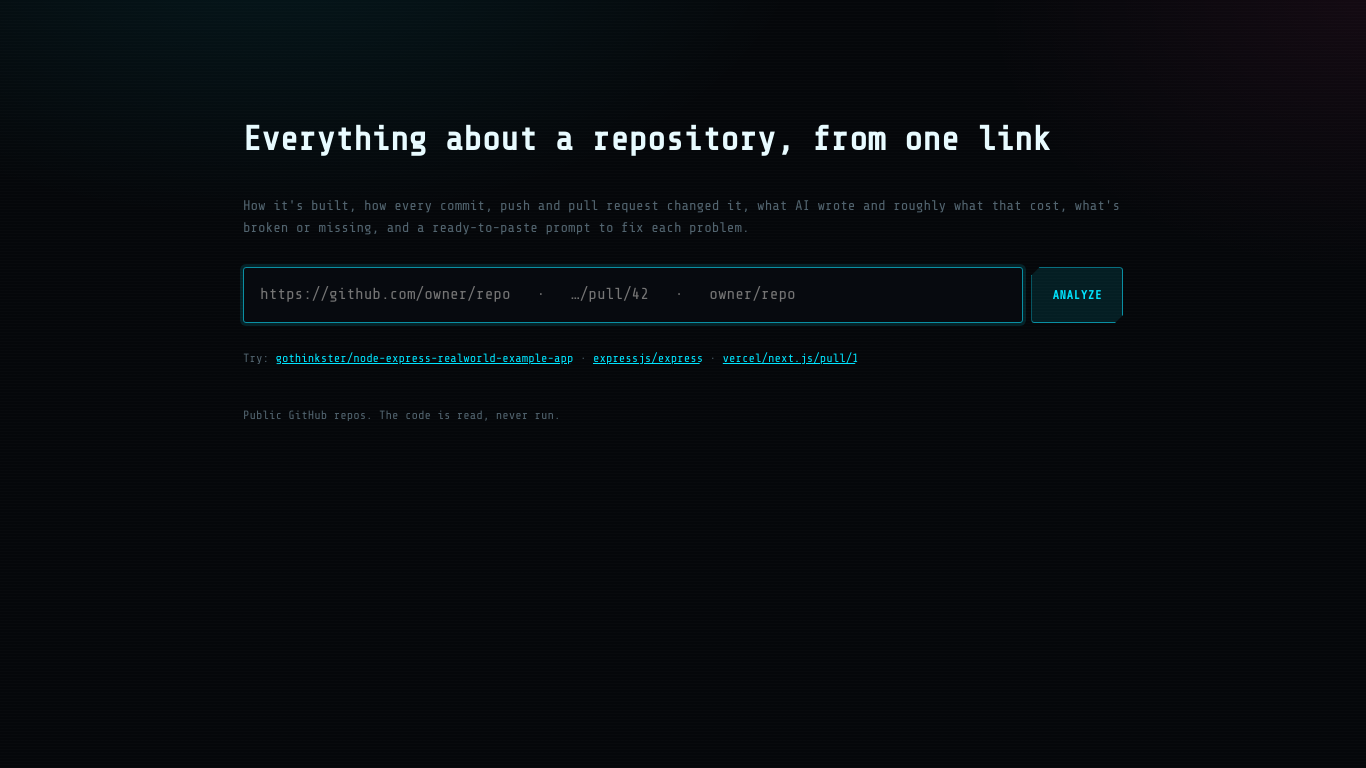
Test: Report page › goes from one pasted link to the report
The image size is (1366, 768).
Step 1. Type "https://github.com/acme/api/pull/7" into the field named "GitHub link" → (633, 295), box [243,267,1023,323]
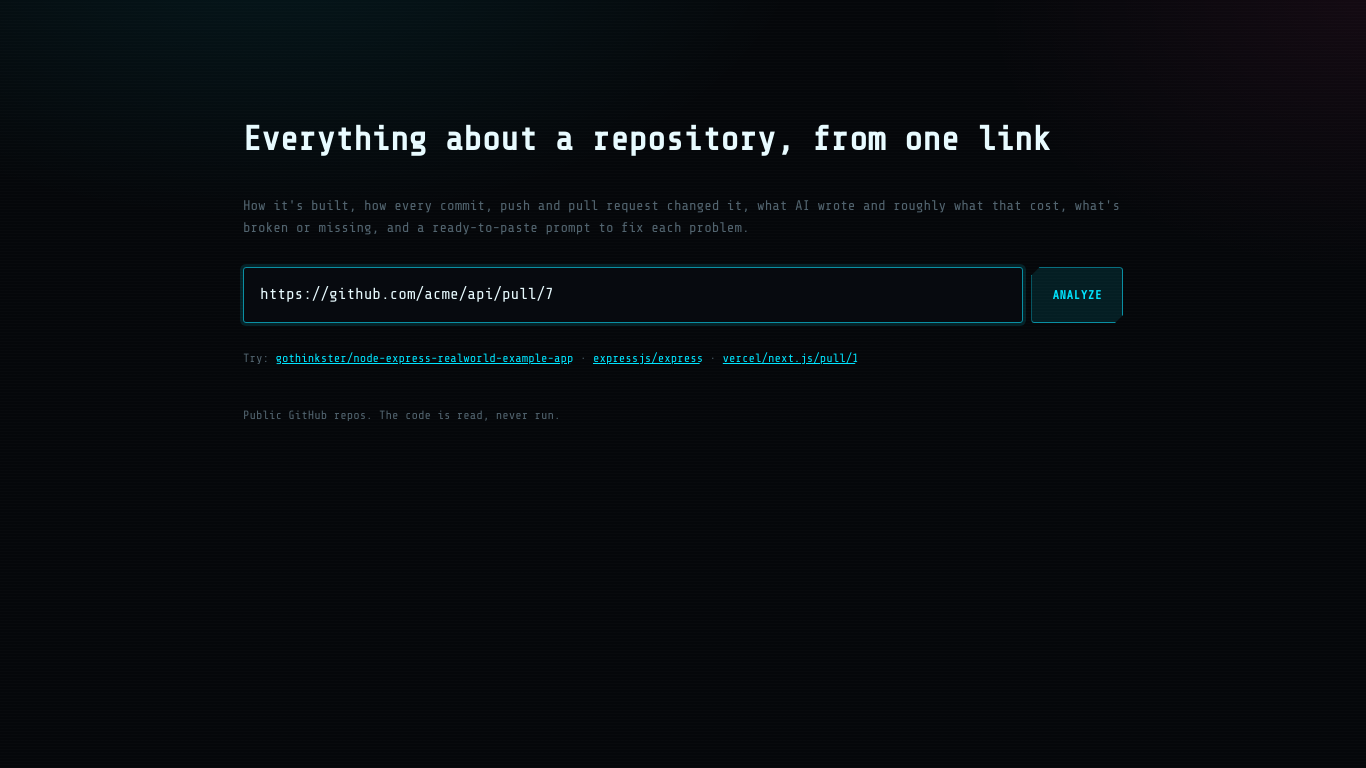
Step 2. Click the button "Analyze" → (1077, 295), box [1031,267,1123,323]
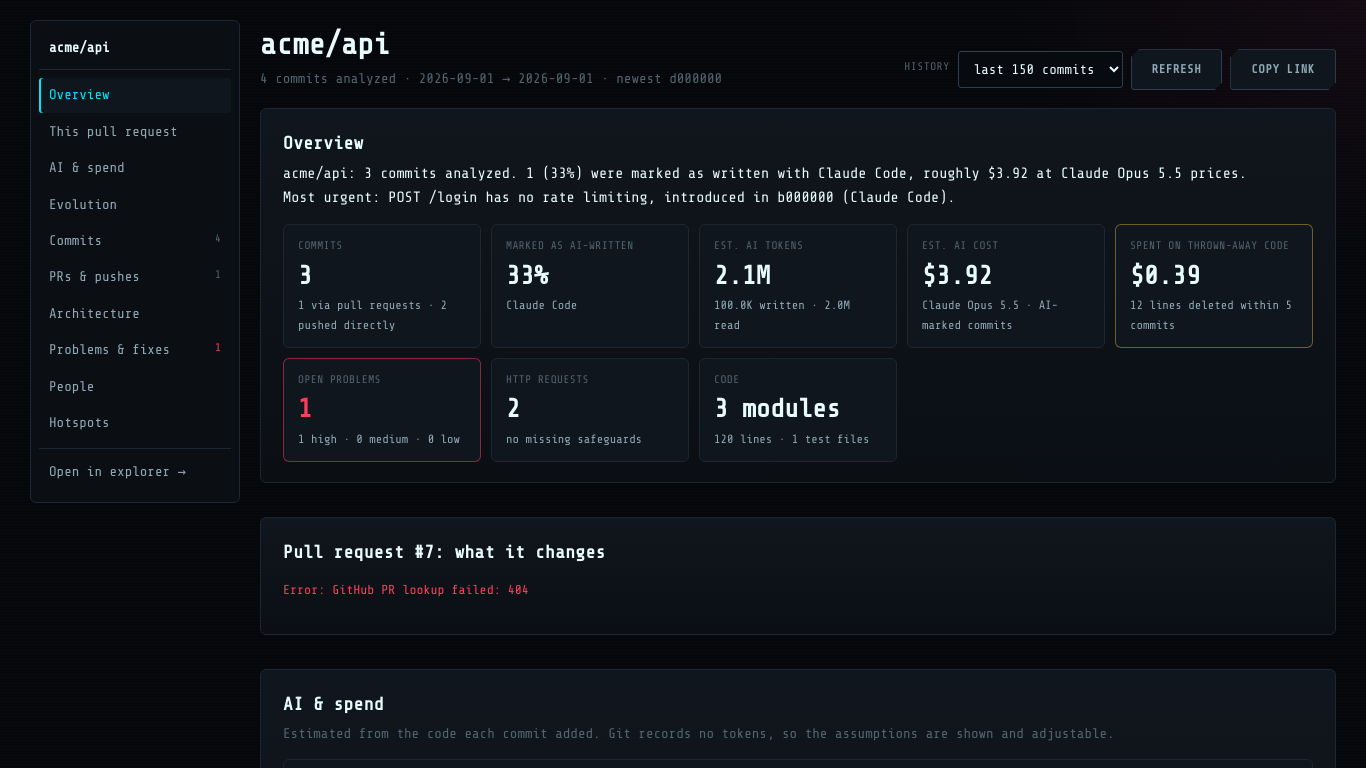
Expected: the heading "Pull request #7: what it changes" is shown, [283,542,606,562]
Expected: the text "Error: GitHub PR lookup failed: 404" is shown, [283,582,529,597]
